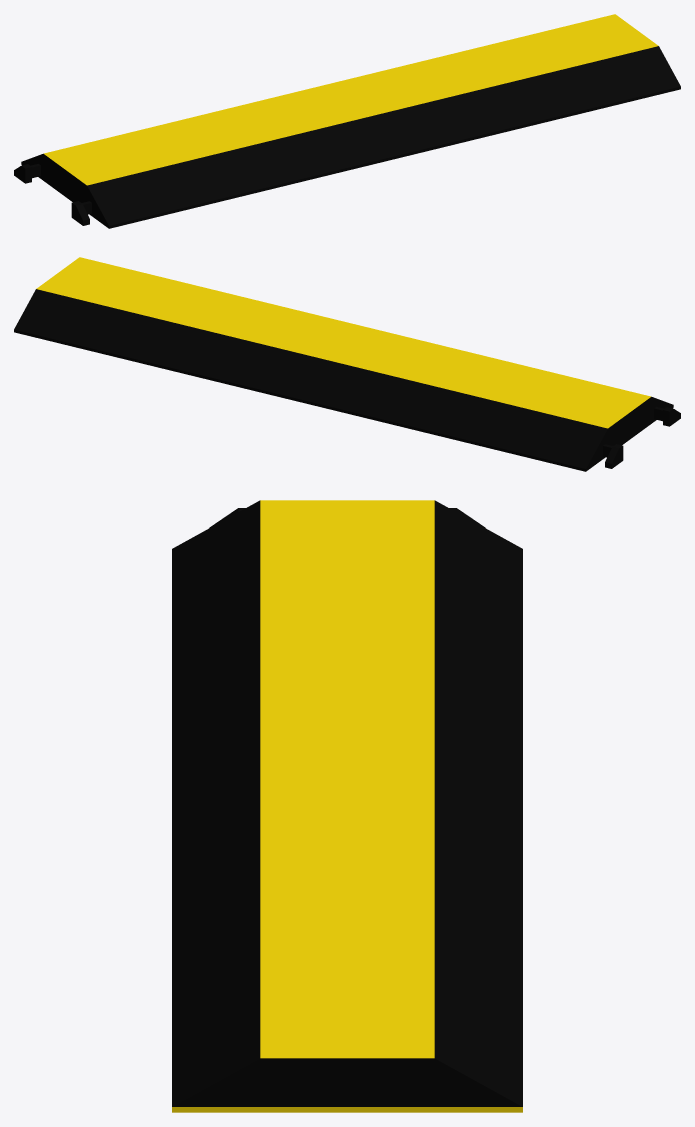
File: cableCover_lp.fbx
The picture shows the model from 3 angles, top to bottom: view 1: azimuth 30°, elevation 25°; view 2: azimuth 150°, elevation 25°; view 3: azimuth 270°, elevation 25°; orthographic projection. The views are drawn at different scales.
Visible parts, largest first — view 1: Box001, Box002; view 2: Box001, Box002; view 3: Box001.
Boxes of the visible parts, x1=… form: Box001: x1=21, y1=14, x2=680, y2=228; Box002: x1=14, y1=164, x2=91, y2=225; Box001: x1=14, y1=257, x2=673, y2=471; Box002: x1=603, y1=407, x2=680, y2=468; Box001: x1=172, y1=500, x2=522, y2=1112.
Size of the model in its own units: 405 by 17.85 by 105.
